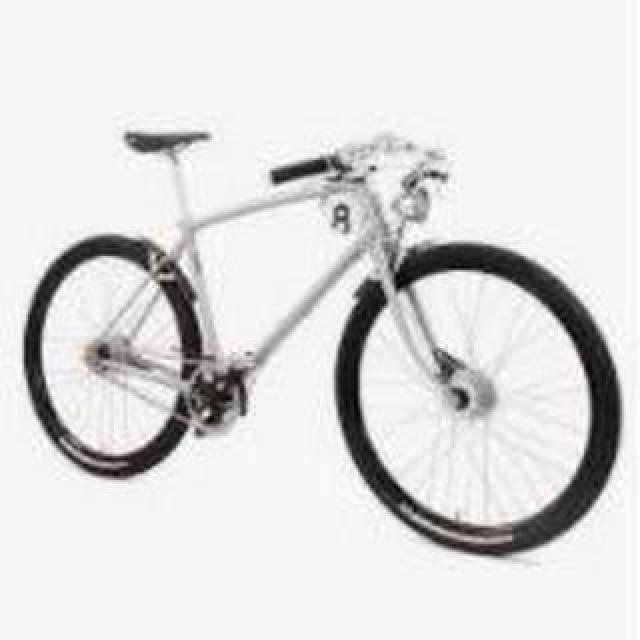Person: (17, 114, 633, 576)
